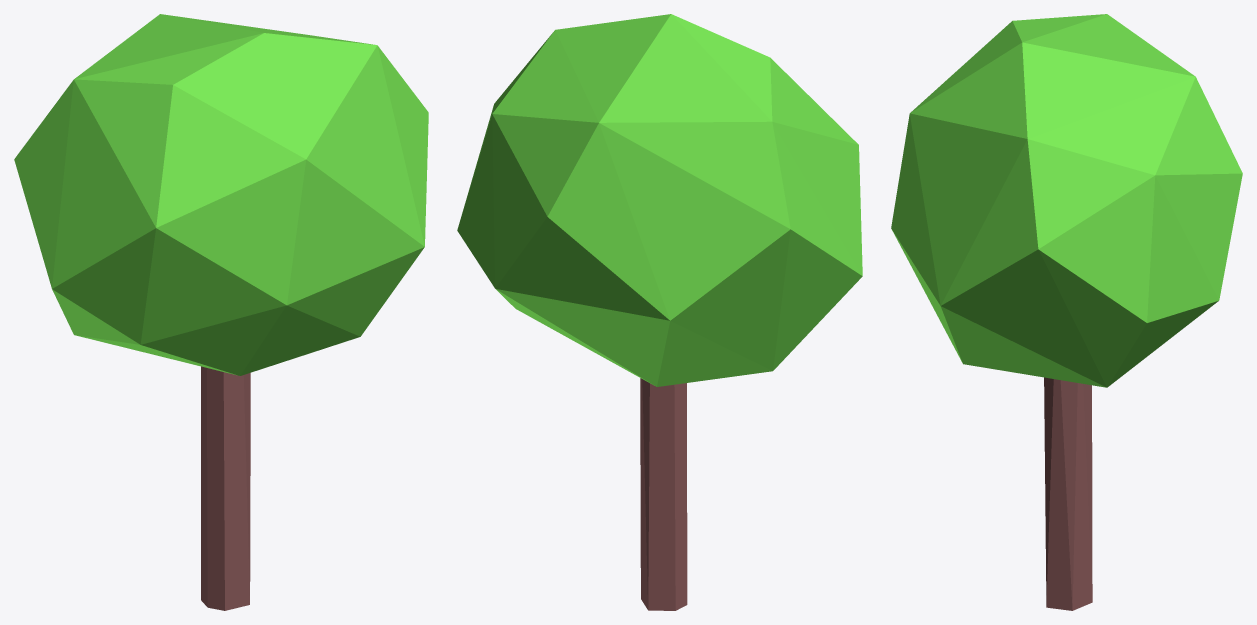
File: LowPolyTree3.fbx
3 renders of one model, left to right at view 1: azimuth 30°, elevation 25°; view 2: azimuth 150°, elevation 25°; view 3: azimuth 270°, elevation 25°, orthographic. The views are drawn at different scales.
Visible parts, largest first — view 1: Tree04; view 2: Tree04; view 3: Tree04.
Part boxes in pixels (bbox=[...]): Tree04: bbox=[14, 14, 428, 610]; Tree04: bbox=[457, 14, 862, 610]; Tree04: bbox=[891, 14, 1242, 610].
Bounding box in the file's own units: 338 × 497 × 280.
